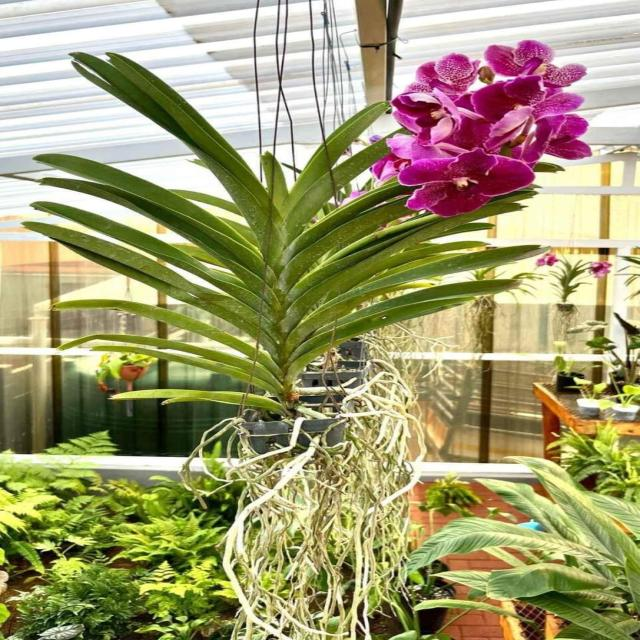flower: (398, 148, 533, 216), (391, 88, 483, 145), (485, 40, 586, 88)
leaf: (79, 58, 270, 224), (37, 154, 263, 277), (285, 210, 489, 330), (302, 245, 547, 330), (312, 280, 519, 351), (57, 300, 257, 358), (289, 181, 415, 272), (291, 105, 385, 202), (99, 338, 273, 381), (438, 563, 611, 598), (520, 591, 632, 639), (112, 391, 280, 410)
root: (224, 409, 419, 634)
